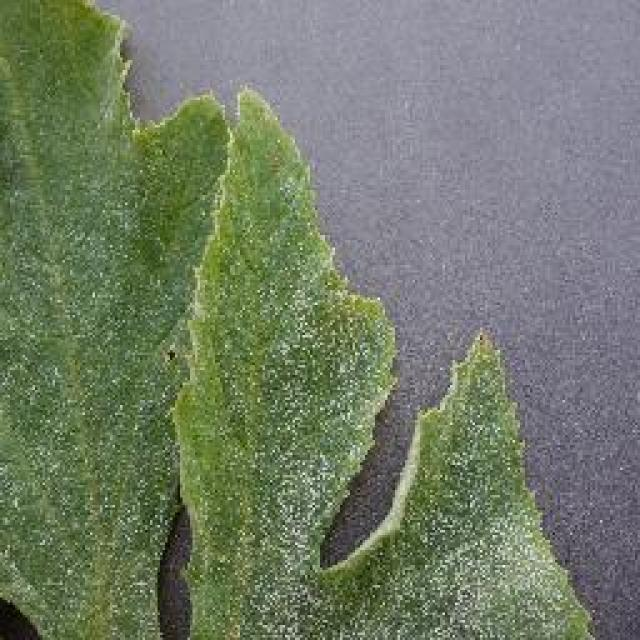Squ_Powdery_mildew: (0, 106, 321, 638)
